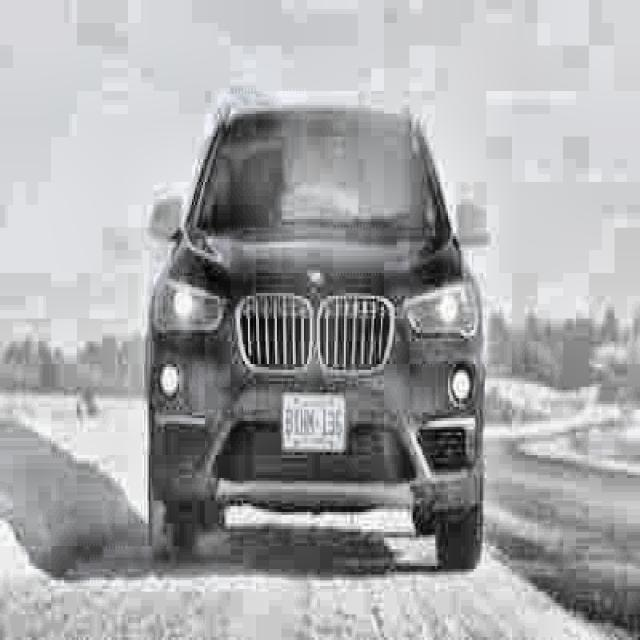license_plate: (280, 392, 346, 451)
